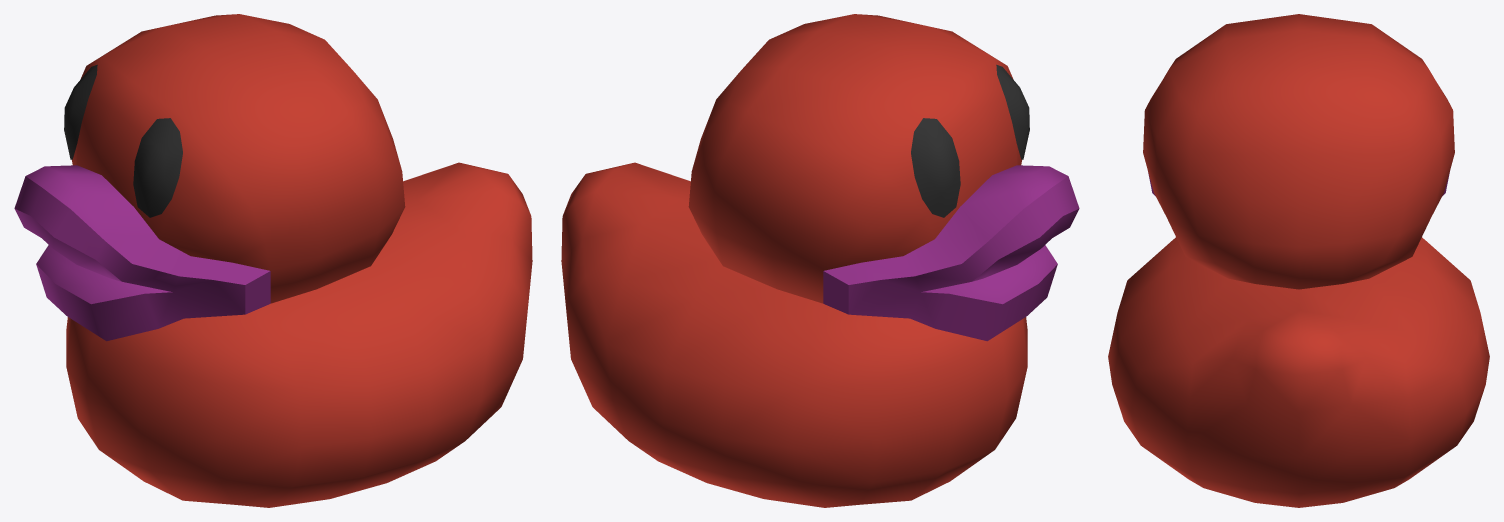
File: duck01_s02.FBX
3 renders of one model, left to right at view 1: azimuth 30°, elevation 25°; view 2: azimuth 150°, elevation 25°; view 3: azimuth 270°, elevation 25°, orthographic. The views are drawn at different scales.
Visible parts, largest first — view 1: duck01_s02; view 2: duck01_s02; view 3: duck01_s02.
Boxes of the visible parts, x1=… form: duck01_s02: x1=14, y1=14, x2=532, y2=507; duck01_s02: x1=561, y1=14, x2=1079, y2=507; duck01_s02: x1=1108, y1=14, x2=1489, y2=507.
Size of the model in its own units: 107 by 79.17 by 90.4.
Materials: 1 (1 with a texture image).
